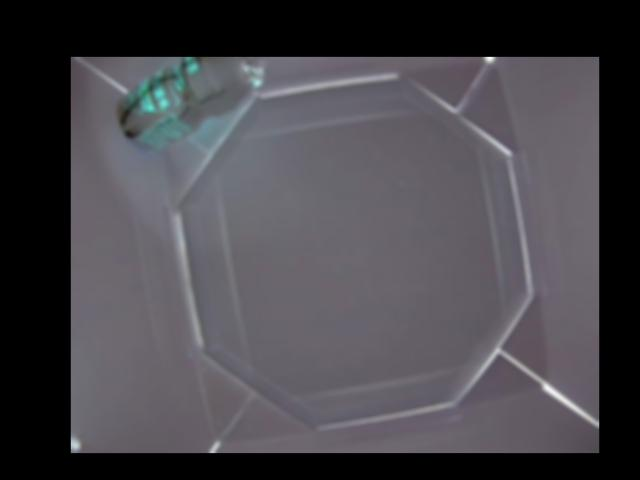Bottle: (115, 57, 265, 155)
